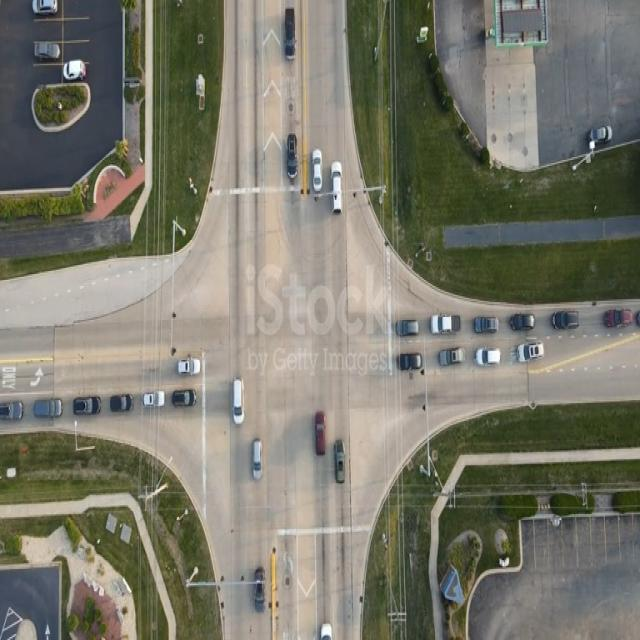car: (284, 9, 296, 63), (328, 162, 340, 213), (33, 400, 62, 420), (517, 344, 544, 365), (604, 308, 632, 328), (68, 400, 96, 420), (332, 163, 343, 213), (552, 311, 579, 331), (588, 126, 612, 148), (75, 396, 101, 416), (0, 403, 24, 424), (234, 381, 245, 426), (286, 135, 297, 180), (315, 412, 326, 457), (398, 353, 422, 373), (312, 152, 323, 195), (253, 568, 264, 611), (477, 349, 501, 367), (475, 316, 499, 334), (511, 314, 535, 332), (112, 397, 136, 415), (336, 442, 346, 485), (64, 60, 85, 80), (441, 349, 464, 367), (396, 320, 419, 338), (252, 441, 262, 481), (177, 359, 200, 376), (33, 0, 58, 15), (172, 390, 194, 407), (143, 391, 165, 407), (323, 626, 336, 640)
pickup-truck: (34, 40, 61, 60)
